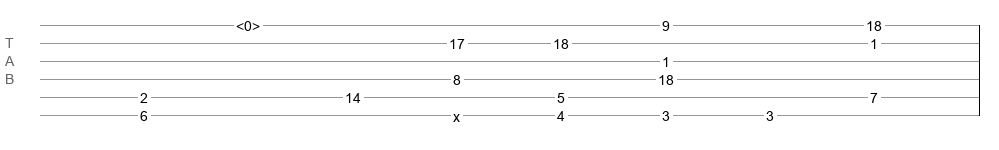1: (662, 54, 670, 64), (870, 36, 878, 46)
14: (345, 90, 361, 100)
17: (449, 36, 465, 46)
18: (553, 36, 569, 46), (658, 72, 674, 82), (866, 18, 882, 28)
2: (140, 90, 148, 100)
3: (662, 108, 670, 118), (766, 108, 774, 118)
4: (557, 108, 565, 118)
5: (557, 90, 565, 100)
6: (140, 108, 148, 118)
7: (870, 90, 878, 100)
8: (453, 72, 461, 82)
9: (662, 18, 670, 28)
harmonic: (236, 18, 260, 28)
x: (453, 109, 460, 117)
